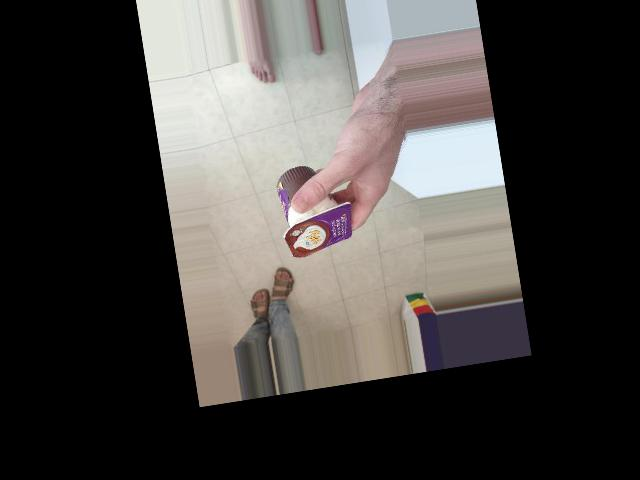milky: (247, 197, 345, 269)
